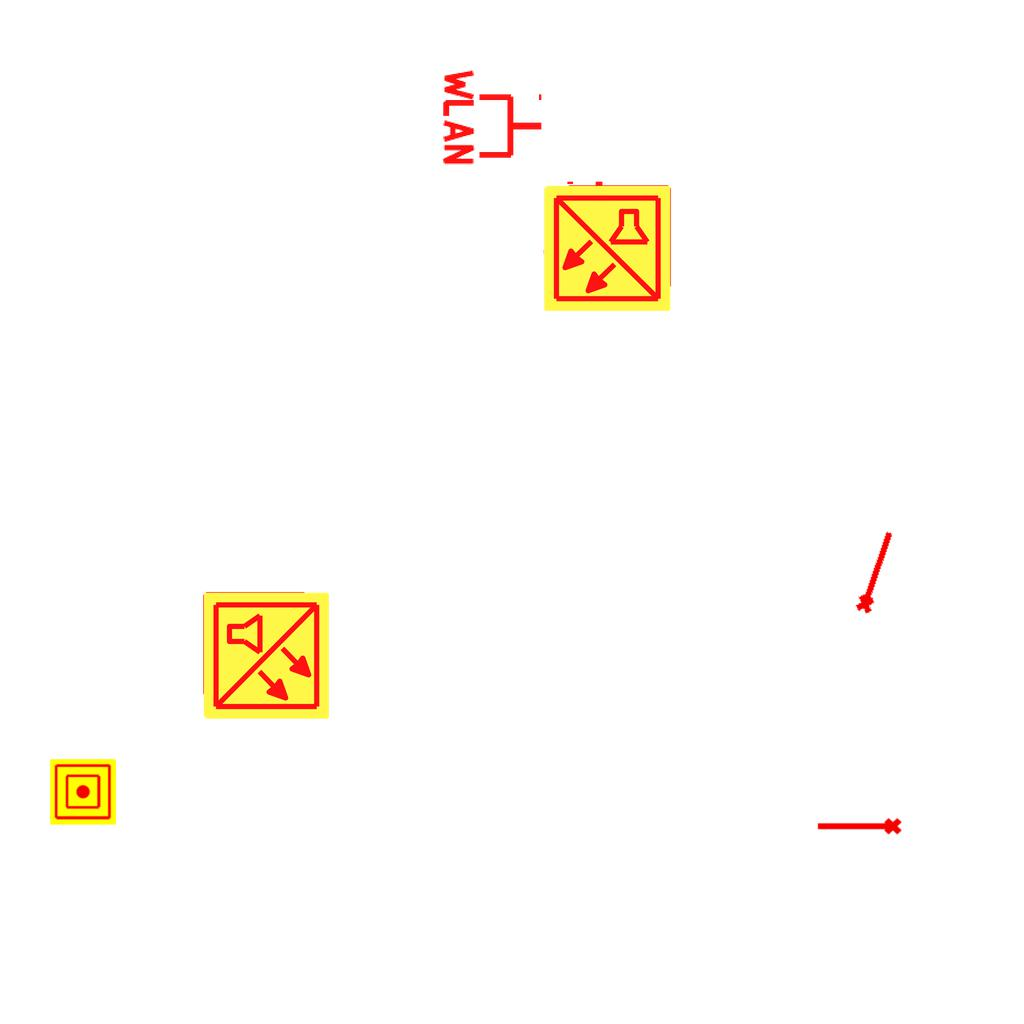ASR_Ansaugoeffnung: (849, 526, 901, 617), (815, 816, 903, 839)
NAM-Nichtautomatischer_Melder: (50, 759, 116, 825)
OKW_Multisensormelder_(Kombination_optischer_Rauch-Kahlenmonoxid_Waerme-Melder): (200, 590, 332, 722), (541, 182, 673, 314)
WLAN: (441, 65, 546, 169), (538, 177, 642, 282)
